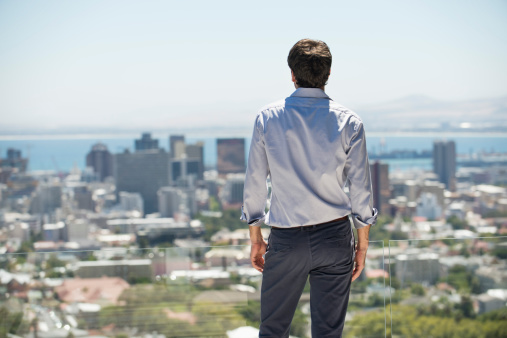em pe: (231, 32, 375, 338)
